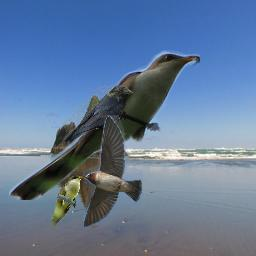Crow: (62, 85, 134, 143)
Cuckoo: (9, 50, 200, 200), (50, 175, 85, 227)
Swallow: (83, 115, 143, 227)
